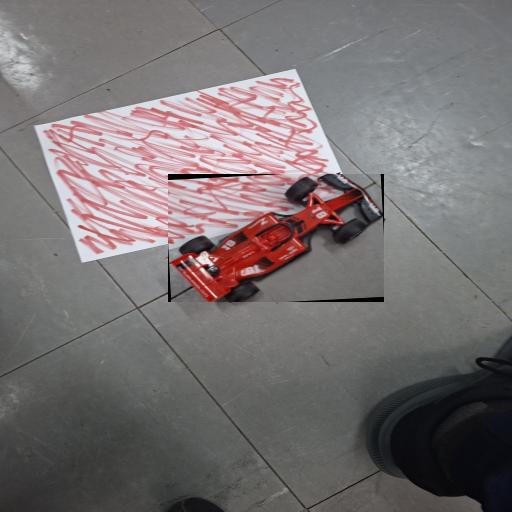carro: (167, 174, 383, 302)
